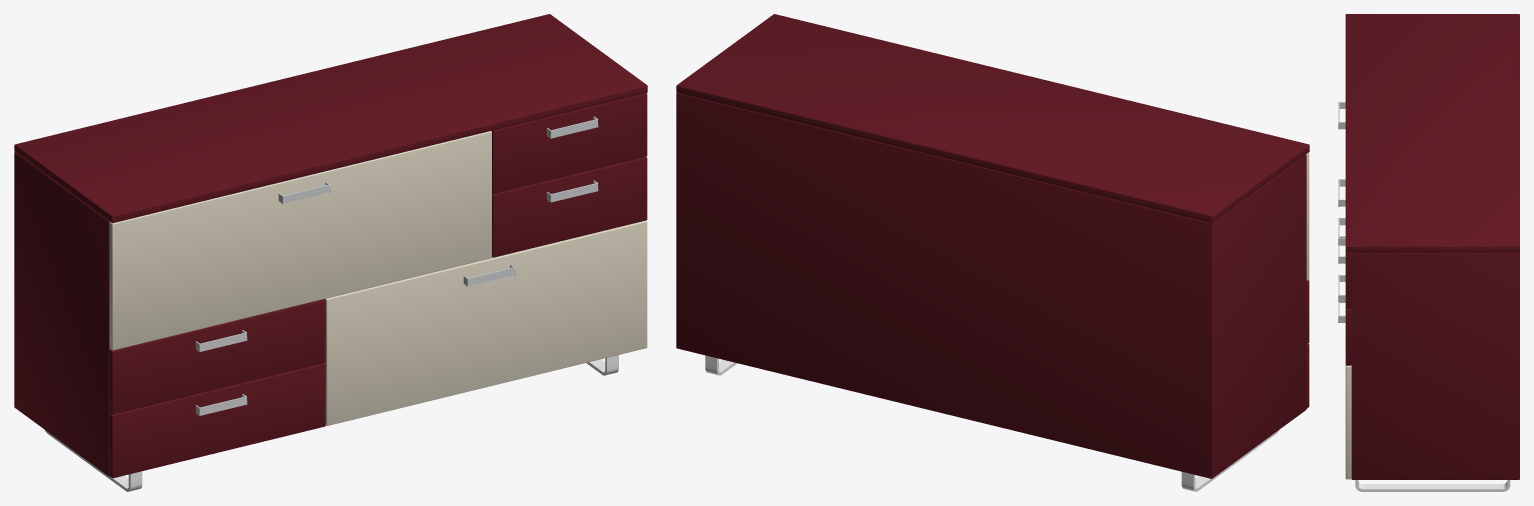
File: recQncwLMDPDlSHSG.glb
3 renders of one model, left to right at view 1: azimuth 30°, elevation 25°; view 2: azimuth 150°, elevation 25°; view 3: azimuth 270°, elevation 25°, orthographic. The views are drawn at different scales.
Parts seen in each view (by area): view 1: Buffet_Dessus, Buffet_Abattant_Haut, Buffet, Buffet_Abattant_Bas, Buffet_Caisson, Buffet_Pieds_Luge; view 2: Buffet_Caisson, Buffet_Dessus, Buffet_Pieds_Luge; view 3: Buffet_Dessus, Buffet_Caisson, Buffet, Buffet_Pieds_Luge, Buffet_Abattant_Bas.
Part boxes in pixels (bbox=[...]): Buffet_Dessus: bbox=[14, 14, 647, 223]; Buffet_Abattant_Haut: bbox=[109, 131, 491, 350]; Buffet: bbox=[109, 93, 647, 478]; Buffet_Abattant_Bas: bbox=[325, 220, 647, 425]; Buffet_Caisson: bbox=[14, 152, 110, 476]; Buffet_Pieds_Luge: bbox=[45, 355, 618, 491]; Buffet_Caisson: bbox=[676, 93, 1306, 478]; Buffet_Dessus: bbox=[676, 14, 1309, 223]; Buffet_Pieds_Luge: bbox=[705, 355, 1278, 491]; Buffet_Dessus: bbox=[1345, 14, 1519, 252]; Buffet_Caisson: bbox=[1351, 252, 1519, 479]; Buffet: bbox=[1338, 179, 1351, 365]; Buffet_Pieds_Luge: bbox=[1355, 480, 1510, 491]; Buffet_Abattant_Bas: bbox=[1345, 365, 1351, 479].
Bounding box in the file's own units: 1.8 × 0.9251 × 0.5948.
